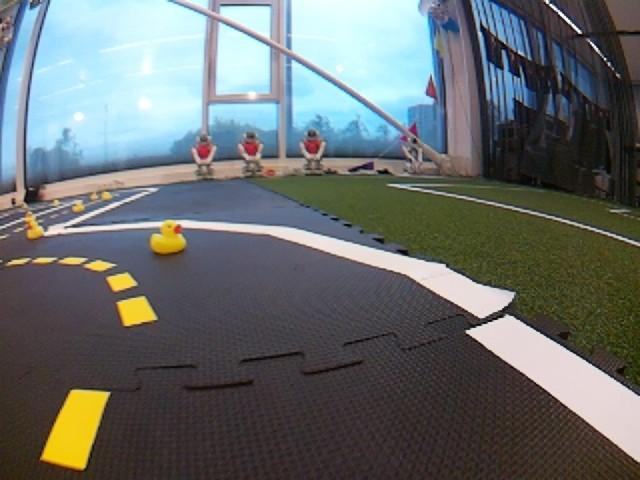Duckies: (148, 219, 187, 254), (26, 222, 43, 240), (24, 212, 36, 222), (73, 202, 84, 211), (90, 192, 99, 200), (102, 193, 112, 200)
